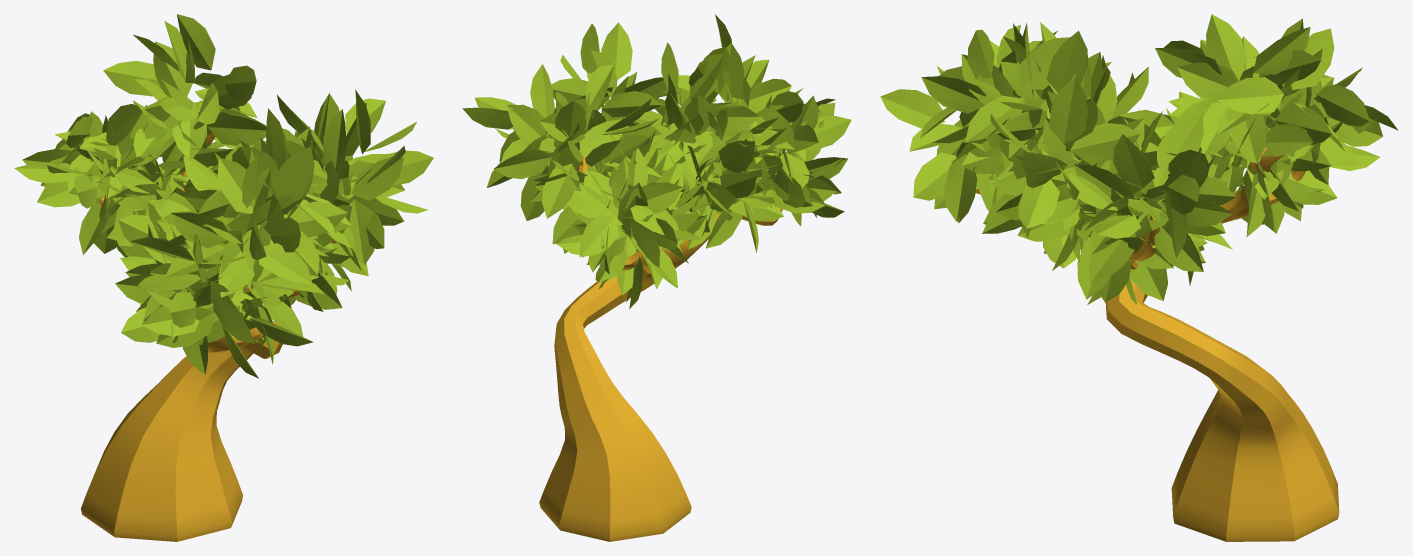
The model's file is Tree_Textured.fbx.
3 renders of one model, left to right at view 1: azimuth 30°, elevation 25°; view 2: azimuth 150°, elevation 25°; view 3: azimuth 270°, elevation 25°, orthographic. The views are drawn at different scales.
Parts seen in each view (by area): view 1: Trunk_LP; view 2: Trunk_LP; view 3: Trunk_LP.
Part boxes in pixels (x1,y1,x2,y2): Trunk_LP: (14,14,433,541); Trunk_LP: (462,14,851,541); Trunk_LP: (880,14,1398,541).
Size of the model in its own units: 799 by 1005 by 940.
Materials: 1 (1 with a texture image).
